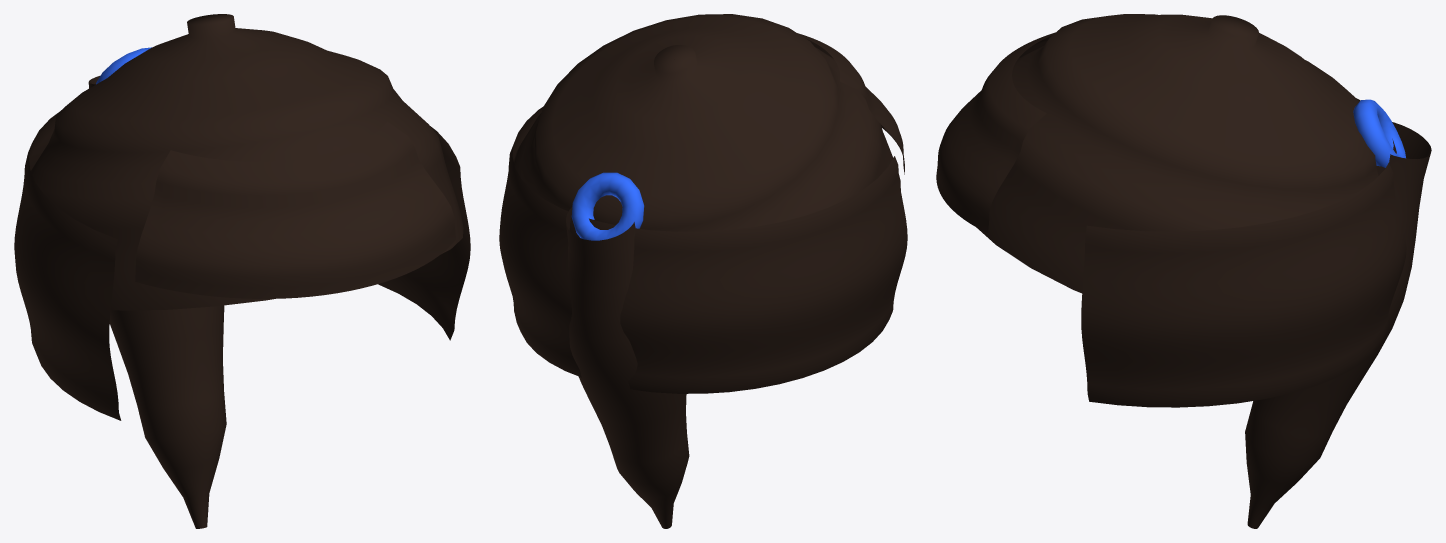
Rendered from hair_ponytail_female.glb.
The picture shows the model from 3 angles, left to right: view 1: azimuth 30°, elevation 25°; view 2: azimuth 150°, elevation 25°; view 3: azimuth 270°, elevation 25°; orthographic projection. The views are drawn at different scales.
Visible parts, largest first — view 1: hair, bang, hair_back, tail; view 2: hair, hair_back, tail, scrunchie, bang; view 3: hair, hair_back, tail, bang, scrunchie.
Boxes of the visible parts, x1=… form: hair: x1=31, y1=14, x2=463, y2=310; bang: x1=135, y1=121, x2=455, y2=298; hair_back: x1=14, y1=112, x2=470, y2=420; tail: x1=88, y1=76, x2=226, y2=528; hair: x1=513, y1=14, x2=900, y2=282; hair_back: x1=499, y1=106, x2=907, y2=393; tail: x1=566, y1=206, x2=689, y2=528; scrunchie: x1=571, y1=172, x2=644, y2=240; bang: x1=797, y1=33, x2=904, y2=174; hair: x1=976, y1=14, x2=1378, y2=293; hair_back: x1=1081, y1=98, x2=1406, y2=407; tail: x1=1245, y1=122, x2=1431, y2=528; bang: x1=936, y1=32, x2=1055, y2=232; scrunchie: x1=1353, y1=99, x2=1405, y2=167.
Size of the model in its own units: 0.3097 by 0.3982 by 0.3524.
